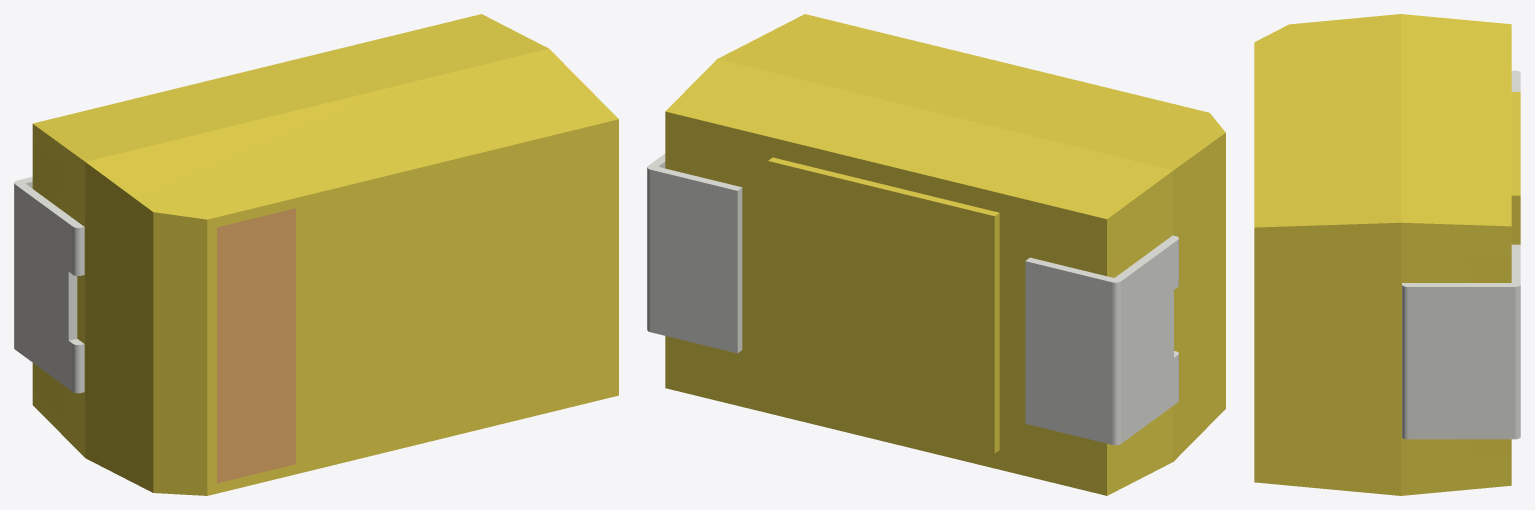
The model's file is CP_EIA-7343-40_Kemet-Y.glb.
3 renders of one model, left to right at view 1: azimuth 30°, elevation 25°; view 2: azimuth 150°, elevation 25°; view 3: azimuth 270°, elevation 25°, orthographic. The views are drawn at different scales.
Parts seen in each view (by area): view 1: Shape_IndexedFaceSet.025, Shape_IndexedFaceSet.024, Shape_IndexedFaceSet.014, Shape_IndexedFaceSet.045, Shape_IndexedFaceSet.026, Shape_IndexedFaceSet.037, Shape_IndexedFaceSet.033, Shape_IndexedFaceSet.015, Shape_IndexedFaceSet.043; view 2: Shape_IndexedFaceSet.036, Shape_IndexedFaceSet.011, Shape_IndexedFaceSet.024, Shape_IndexedFaceSet.014, Shape_IndexedFaceSet.026, Shape_IndexedFaceSet, Shape_IndexedFaceSet.029, Shape_IndexedFaceSet.033, Shape_IndexedFaceSet.015, Shape_IndexedFaceSet.028, Shape_IndexedFaceSet.022, Shape_IndexedFaceSet.021 (+3 smaller); view 3: Shape_IndexedFaceSet.013, Shape_IndexedFaceSet.024, Shape_IndexedFaceSet.014, Shape_IndexedFaceSet.005, Shape_IndexedFaceSet.010, Shape_IndexedFaceSet.002, Shape_IndexedFaceSet.006, Shape_IndexedFaceSet.021, Shape_IndexedFaceSet.001, Shape_IndexedFaceSet.019.
Part boxes in pixels (x1,y1,x2,y2): Shape_IndexedFaceSet.025: (207,119,618,495); Shape_IndexedFaceSet.024: (85,48,618,219); Shape_IndexedFaceSet.014: (33,14,548,161); Shape_IndexedFaceSet.045: (217,208,295,483); Shape_IndexedFaceSet.026: (85,162,153,492); Shape_IndexedFaceSet.037: (153,212,207,495); Shape_IndexedFaceSet.033: (15,184,72,391); Shape_IndexedFaceSet.015: (32,124,85,457); Shape_IndexedFaceSet.043: (68,272,77,340); Shape_IndexedFaceSet.036: (768,161,994,453); Shape_IndexedFaceSet.011: (665,111,1106,495); Shape_IndexedFaceSet.024: (717,14,1225,170); Shape_IndexedFaceSet.014: (665,59,1172,219); Shape_IndexedFaceSet.026: (1173,133,1225,461); Shape_IndexedFaceSet: (650,169,737,353); Shape_IndexedFaceSet.029: (1025,261,1112,444); Shape_IndexedFaceSet.033: (1121,240,1177,443); Shape_IndexedFaceSet.015: (1107,171,1173,495); Shape_IndexedFaceSet.028: (1112,281,1120,445); Shape_IndexedFaceSet.022: (994,213,999,453); Shape_IndexedFaceSet.021: (768,157,999,216); Shape_IndexedFaceSet.013: (1254,222,1400,495); Shape_IndexedFaceSet.024: (1254,14,1400,227); Shape_IndexedFaceSet.014: (1401,14,1511,226); Shape_IndexedFaceSet.005: (1408,287,1514,439); Shape_IndexedFaceSet.010: (1401,222,1511,495); Shape_IndexedFaceSet.002: (1514,285,1520,439); Shape_IndexedFaceSet.006: (1402,285,1408,439); Shape_IndexedFaceSet.021: (1511,92,1520,195); Shape_IndexedFaceSet.001: (1402,244,1520,286); Shape_IndexedFaceSet.019: (1511,195,1520,244).
Size of what is drawn, in the model's own units: 2.87 by 1.69 by 1.5.
